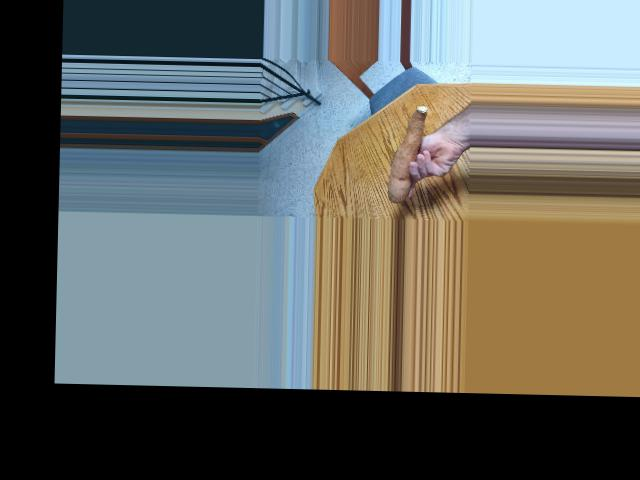sweet_potato: (383, 102, 431, 201)
